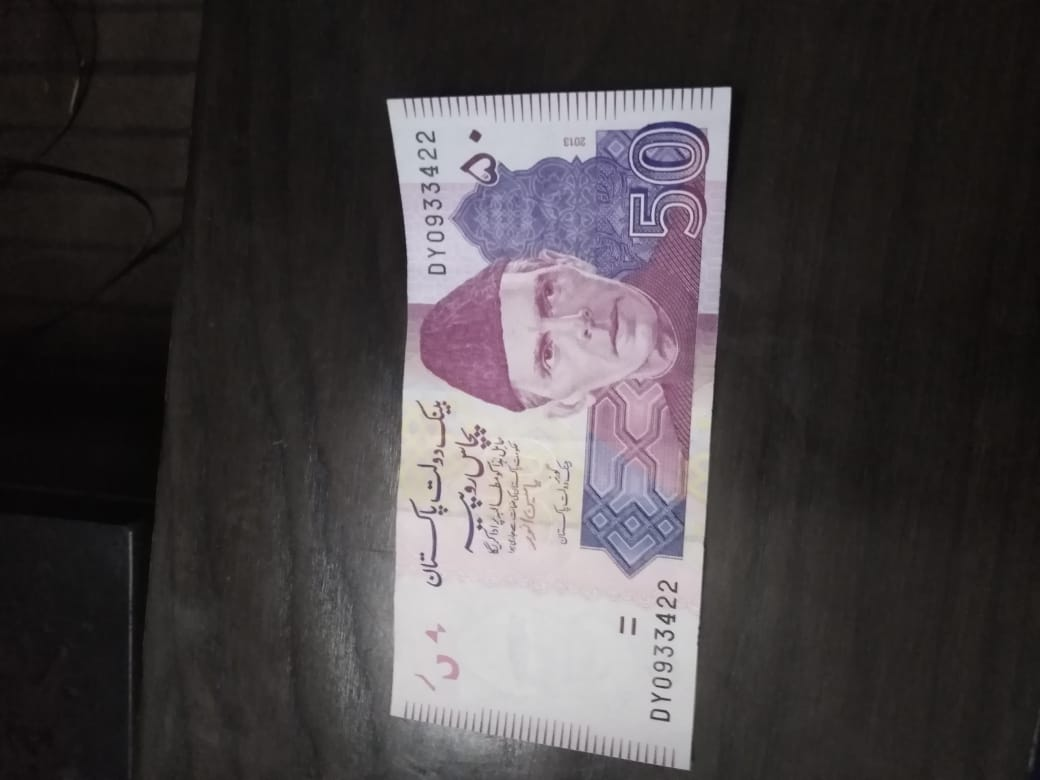50 rupee: (369, 86, 736, 772)
